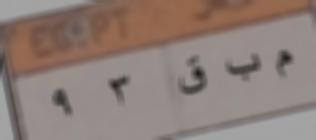3: (105, 69, 140, 115)
9: (41, 82, 84, 125)
baa: (224, 49, 265, 88)
meem: (271, 45, 294, 87)
qaaf: (177, 51, 208, 105)
